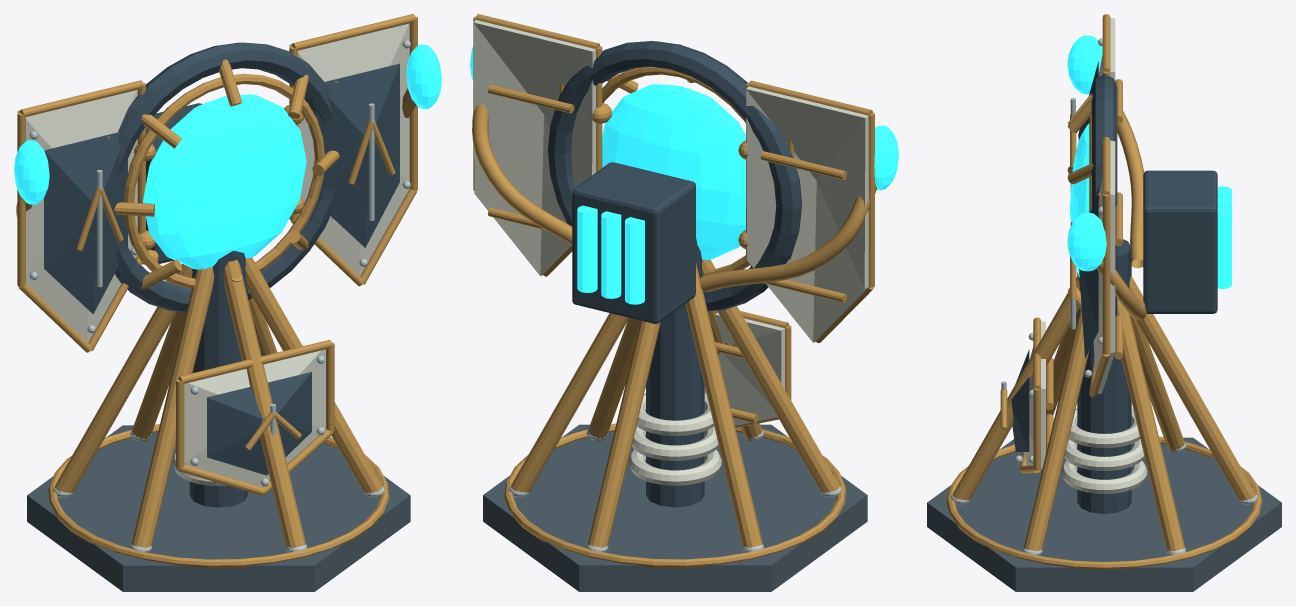
The model's file is aegis-3.glb.
The picture shows the model from 3 angles, left to right: view 1: azimuth 30°, elevation 25°; view 2: azimuth 150°, elevation 25°; view 3: azimuth 270°, elevation 25°; orthographic projection. The views are drawn at different scales.
Visible parts, largest first — view 1: Base - Carved dark stone.002, Base - Brushed electrum.005, Core - Aegis crystal.002, Core - Blue tempered steel.005, Panel_L - Blue tempered steel.005, Panel_R - Blue tempered steel.005, Core - Brushed electrum.005, Panel_R - Royal ivory enamel.005, Panel_L - Royal ivory enamel.005, Turret - Blue tempered steel.005, Turret - Royal ivory enamel.005, Panel_L - Brushed electrum.005 (+6 smaller); view 2: Base - Carved dark stone.002, Base - Brushed electrum.005, Panel_L - Royal ivory enamel.005, Panel_R - Royal ivory enamel.005, Core - Aegis crystal.002, Core - Blue tempered steel.005, Turret - Blue tempered steel.005, Turret - Brushed electrum.005, Base - Blue tempered steel.005, Turret - Aegis crystal.002, Base - Royal ivory enamel.005, Panel_L - Brushed electrum.005 (+4 smaller); view 3: Base - Carved dark stone.002, Base - Brushed electrum.005, Turret - Blue tempered steel.005, Base - Blue tempered steel.005, Turret - Brushed electrum.005, Turret - Aegis crystal.002, Base - Royal ivory enamel.005, Panel_R - Brushed electrum.005, Core - Blue tempered steel.005, Panel_R - Royal ivory enamel.005, Panel_R - Blue tempered steel.005, Core - Aegis crystal.002 (+3 smaller).
Boxes of the visible parts, bbox=[...] form: Base - Carved dark stone.002: bbox=[27, 425, 410, 591]; Base - Brushed electrum.005: bbox=[48, 257, 389, 567]; Core - Aegis crystal.002: bbox=[143, 94, 306, 269]; Core - Blue tempered steel.005: bbox=[115, 42, 334, 311]; Panel_L - Blue tempered steel.005: bbox=[44, 132, 127, 314]; Panel_R - Blue tempered steel.005: bbox=[316, 63, 399, 247]; Core - Brushed electrum.005: bbox=[114, 59, 339, 289]; Panel_R - Royal ivory enamel.005: bbox=[289, 23, 409, 275]; Panel_L - Royal ivory enamel.005: bbox=[17, 90, 137, 342]; Turret - Blue tempered steel.005: bbox=[146, 103, 311, 475]; Turret - Royal ivory enamel.005: bbox=[176, 349, 325, 486]; Panel_L - Brushed electrum.005: bbox=[17, 80, 155, 352]; Base - Carved dark stone.002: bbox=[483, 424, 867, 591]; Base - Brushed electrum.005: bbox=[504, 259, 845, 567]; Panel_L - Royal ivory enamel.005: bbox=[746, 86, 868, 342]; Panel_R - Royal ivory enamel.005: bbox=[473, 20, 595, 275]; Core - Aegis crystal.002: bbox=[602, 84, 745, 259]; Core - Blue tempered steel.005: bbox=[548, 41, 801, 311]; Turret - Blue tempered steel.005: bbox=[572, 162, 695, 323]; Turret - Brushed electrum.005: bbox=[472, 103, 876, 428]; Base - Blue tempered steel.005: bbox=[646, 238, 704, 507]; Turret - Aegis crystal.002: bbox=[470, 46, 898, 304]; Base - Royal ivory enamel.005: bbox=[628, 393, 721, 485]; Panel_L - Brushed electrum.005: bbox=[738, 80, 874, 342]; Base - Carved dark stone.002: bbox=[927, 437, 1281, 591]; Base - Brushed electrum.005: bbox=[946, 276, 1262, 569]; Turret - Blue tempered steel.005: bbox=[1011, 170, 1217, 451]; Base - Blue tempered steel.005: bbox=[1077, 239, 1131, 513]; Turret - Brushed electrum.005: bbox=[1000, 111, 1146, 473]; Turret - Aegis crystal.002: bbox=[1067, 35, 1231, 288]; Base - Royal ivory enamel.005: bbox=[1061, 408, 1147, 493]; Panel_R - Brushed electrum.005: bbox=[1070, 137, 1122, 397]; Core - Blue tempered steel.005: bbox=[1091, 74, 1117, 316]; Panel_R - Royal ivory enamel.005: bbox=[1093, 140, 1115, 393]; Panel_R - Blue tempered steel.005: bbox=[1079, 187, 1098, 358]; Core - Aegis crystal.002: bbox=[1070, 123, 1089, 277].
Bounding box in the file's own units: 2.66 × 2.87 × 2.1.
